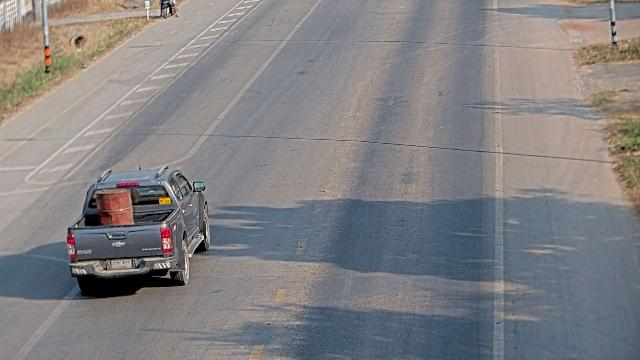pickup-truck: (65, 163, 211, 296)
